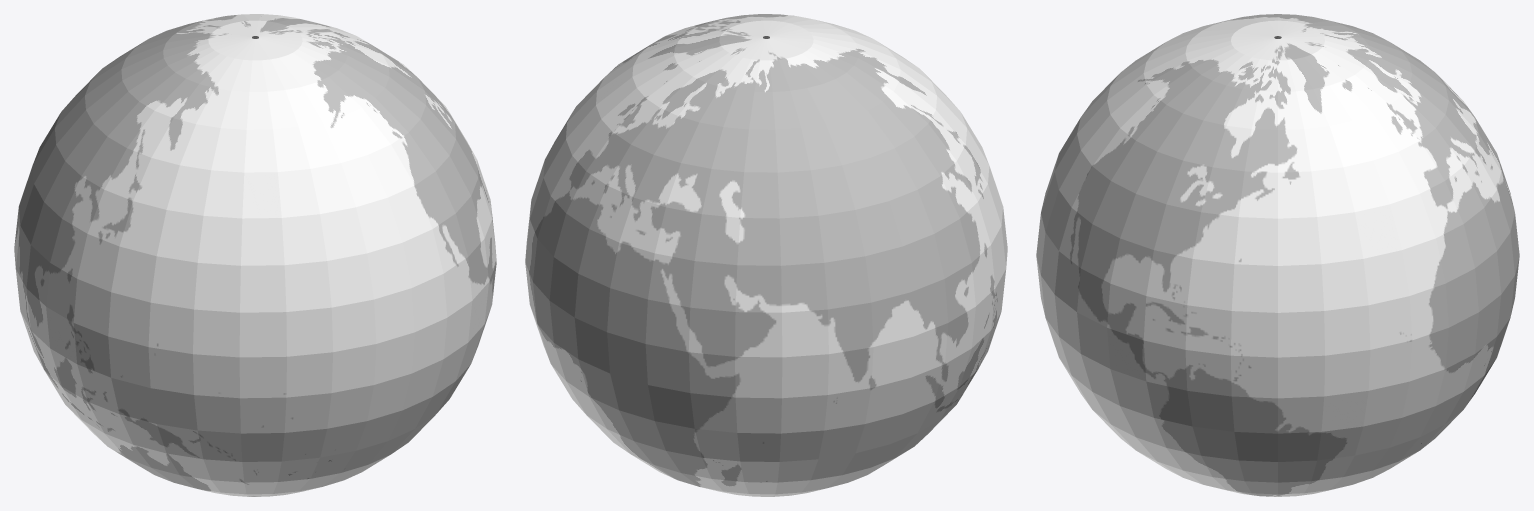
The model's file is earth.obj.
3 renders of one model, left to right at view 1: azimuth 30°, elevation 25°; view 2: azimuth 150°, elevation 25°; view 3: azimuth 270°, elevation 25°, orthographic.
Visible parts, largest first — view 1: Sphere; view 2: Sphere; view 3: Sphere.
Part boxes in pixels (left/top/right/bottom): Sphere: left=14, top=14, right=496, bottom=496; Sphere: left=525, top=14, right=1007, bottom=496; Sphere: left=1036, top=14, right=1519, bottom=496.
Bounding box in the file's own units: 2 × 1.99 × 2.
Materials: 1 (1 with a texture image).
